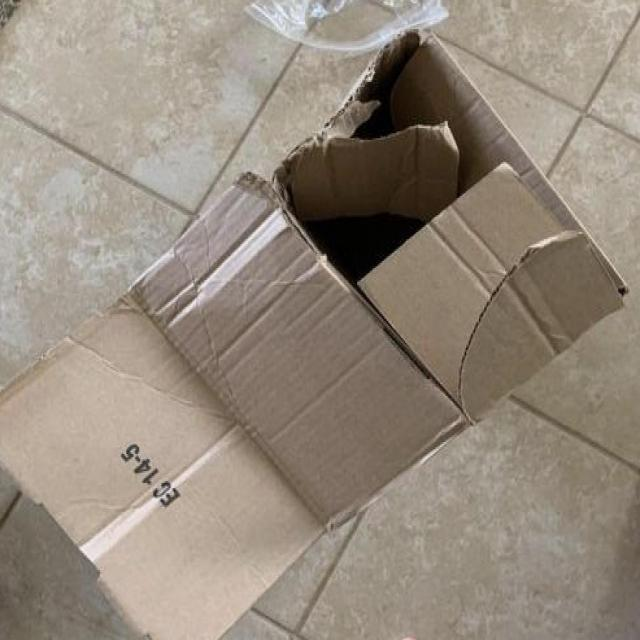damaged: (276, 29, 487, 276)
